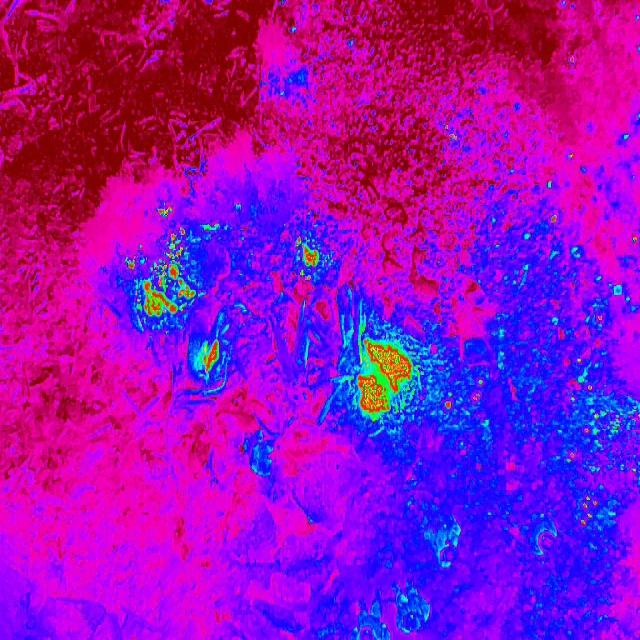fire: (525, 218, 640, 538), (348, 326, 416, 429), (125, 226, 197, 322), (438, 378, 491, 414), (190, 332, 224, 380), (290, 235, 328, 277), (443, 118, 460, 144), (148, 204, 174, 220), (560, 149, 576, 163)
